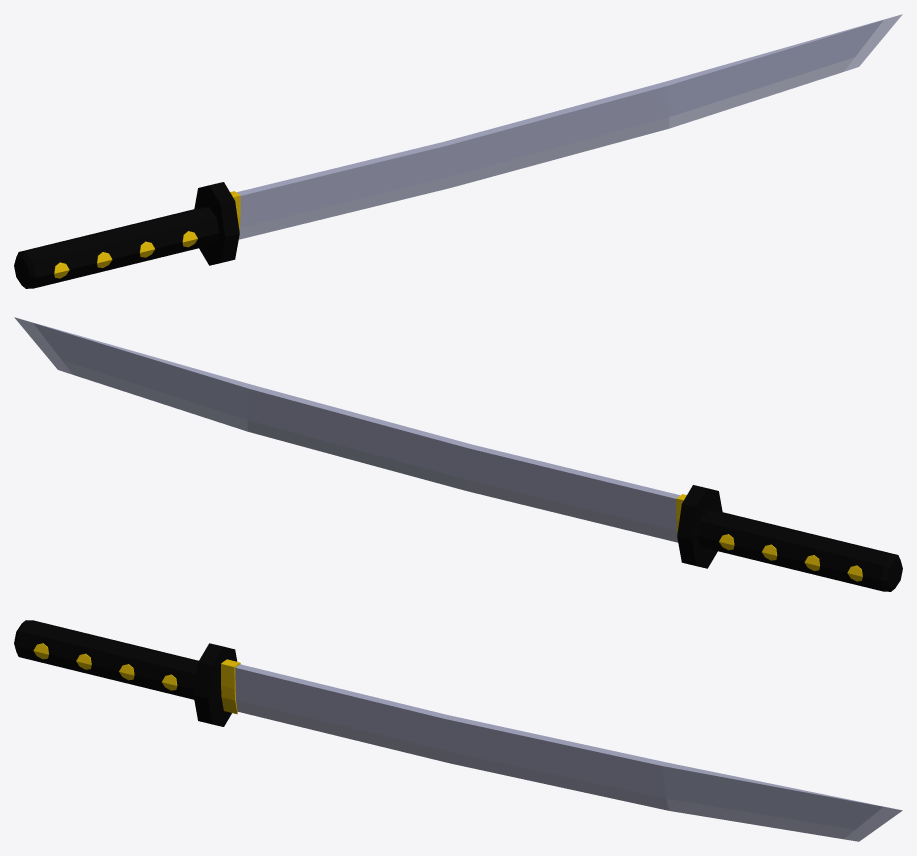
Rendered from katana sword.fbx.
The picture shows the model from 3 angles, top to bottom: view 1: azimuth 30°, elevation 25°; view 2: azimuth 150°, elevation 25°; view 3: azimuth 330°, elevation 25°; orthographic projection.
Visible parts, largest first — view 1: Cube; view 2: Cube; view 3: Cube.
Part boxes in pixels (x1=…): Cube: x1=14, y1=14, x2=902, y2=288; Cube: x1=14, y1=317, x2=902, y2=591; Cube: x1=14, y1=620, x2=902, y2=841.
Bounding box in the file's own units: 3206 × 287 × 200.
